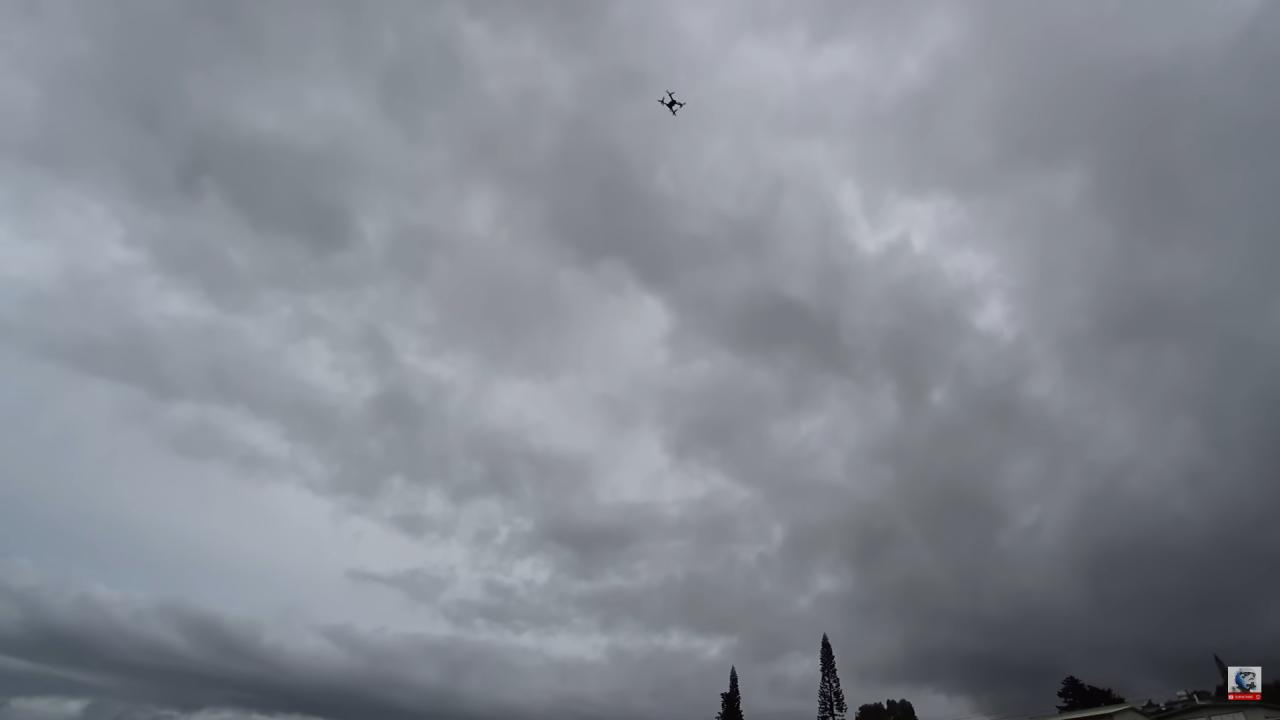Drone: (646, 81, 695, 126)
